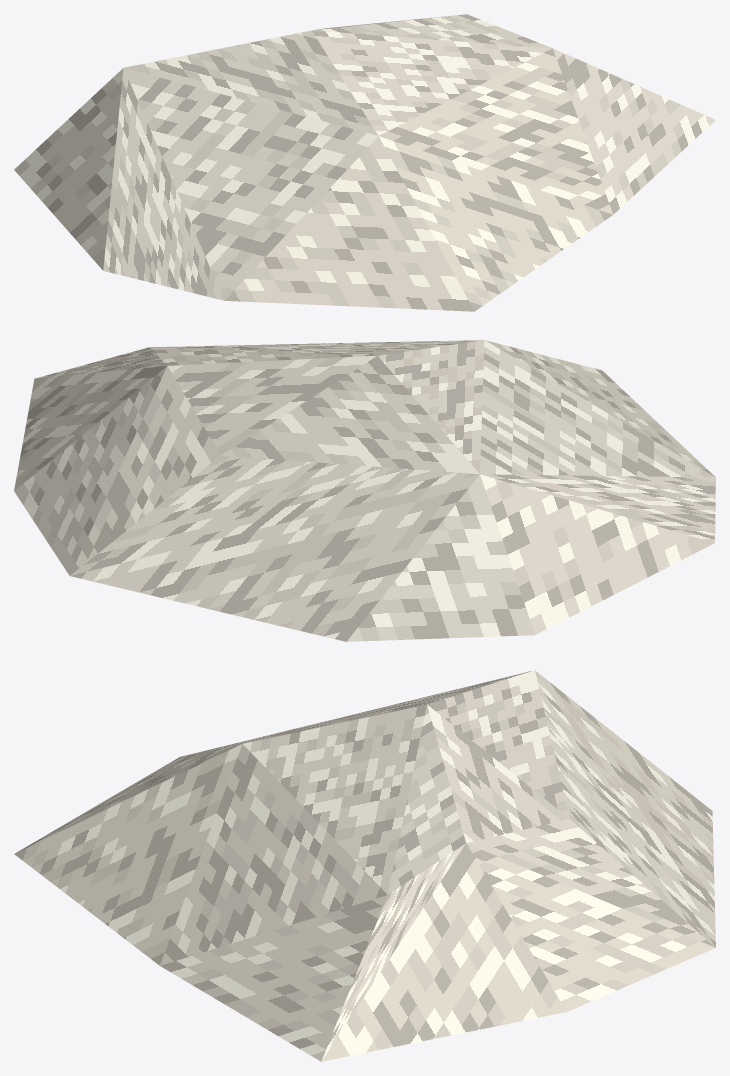
File: material_quicklime.glb
3 renders of one model, top to bottom at view 1: azimuth 30°, elevation 25°; view 2: azimuth 150°, elevation 25°; view 3: azimuth 270°, elevation 25°, orthographic. The views are drawn at different scales.
Parts seen in each view (by area): view 1: block_loose material; view 2: block_loose material; view 3: block_loose material.
Boxes of the visible parts, x1,y1,x2,y2 form: block_loose material: (14, 14, 715, 311); block_loose material: (14, 340, 715, 641); block_loose material: (14, 670, 715, 1061).
Bounding box in the file's own units: 0.0325 × 0.00719 × 0.0285.
1 material, 1 textured.
